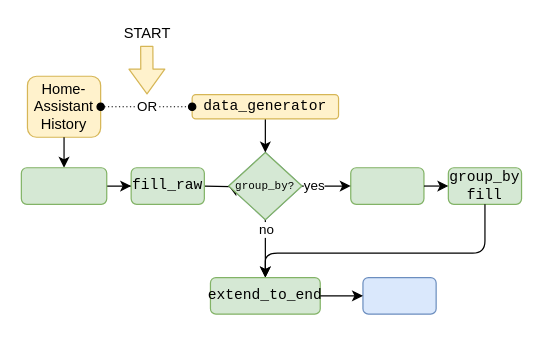
Image size: 543x339. Some labels were removed from this diagram. Here are the shapes that lost their labels. From the top down, the centre of each, then its label:
point (63, 185): transform
point (387, 185): func/ duration
point (399, 295): Display Chart
